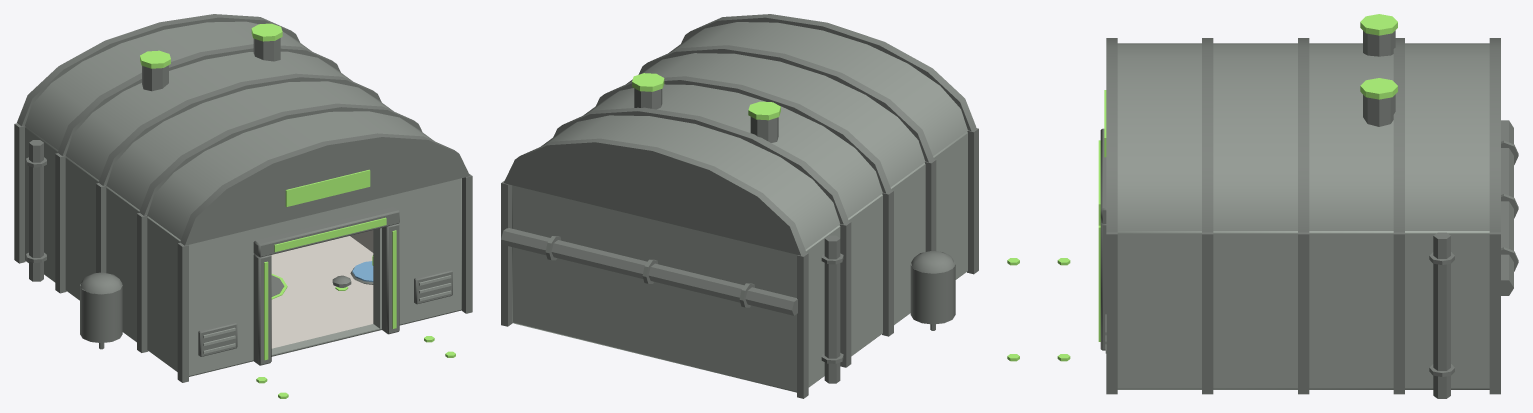
The model's file is CiudadNave.fbx.
3 renders of one model, left to right at view 1: azimuth 30°, elevation 25°; view 2: azimuth 150°, elevation 25°; view 3: azimuth 270°, elevation 25°, orthographic. The views are drawn at different scales.
Visible parts, largest first — view 1: CiudadNave_Base_Metal, CiudadNave_Base_Techo, CiudadNave_Base_Cuerpo, CiudadNave_Base_Forro, CiudadNave_Base_Luz; view 2: CiudadNave_Base_Metal, CiudadNave_Base_Cuerpo, CiudadNave_Base_Techo, CiudadNave_Base_Luz; view 3: CiudadNave_Base_Techo, CiudadNave_Base_Cuerpo, CiudadNave_Base_Metal, CiudadNave_Base_Luz.
Boxes of the visible parts, <box> form: CiudadNave_Base_Metal: <box>14,14,472,382</box>; CiudadNave_Base_Techo: <box>25,21,433,239</box>; CiudadNave_Base_Cuerpo: <box>25,127,461,376</box>; CiudadNave_Base_Forro: <box>271,230,373,348</box>; CiudadNave_Base_Luz: <box>140,23,455,398</box>; CiudadNave_Base_Metal: <box>501,14,978,398</box>; CiudadNave_Base_Cuerpo: <box>512,132,967,392</box>; CiudadNave_Base_Techo: <box>541,22,968,249</box>; CiudadNave_Base_Luz: <box>632,73,780,120</box>; CiudadNave_Base_Techo: <box>1117,43,1489,230</box>; CiudadNave_Base_Cuerpo: <box>1105,231,1489,389</box>; CiudadNave_Base_Metal: <box>1100,30,1518,398</box>; CiudadNave_Base_Luz: <box>1007,14,1397,361</box>.
Size of the model in its own units: 3651 by 2250 by 4056.
